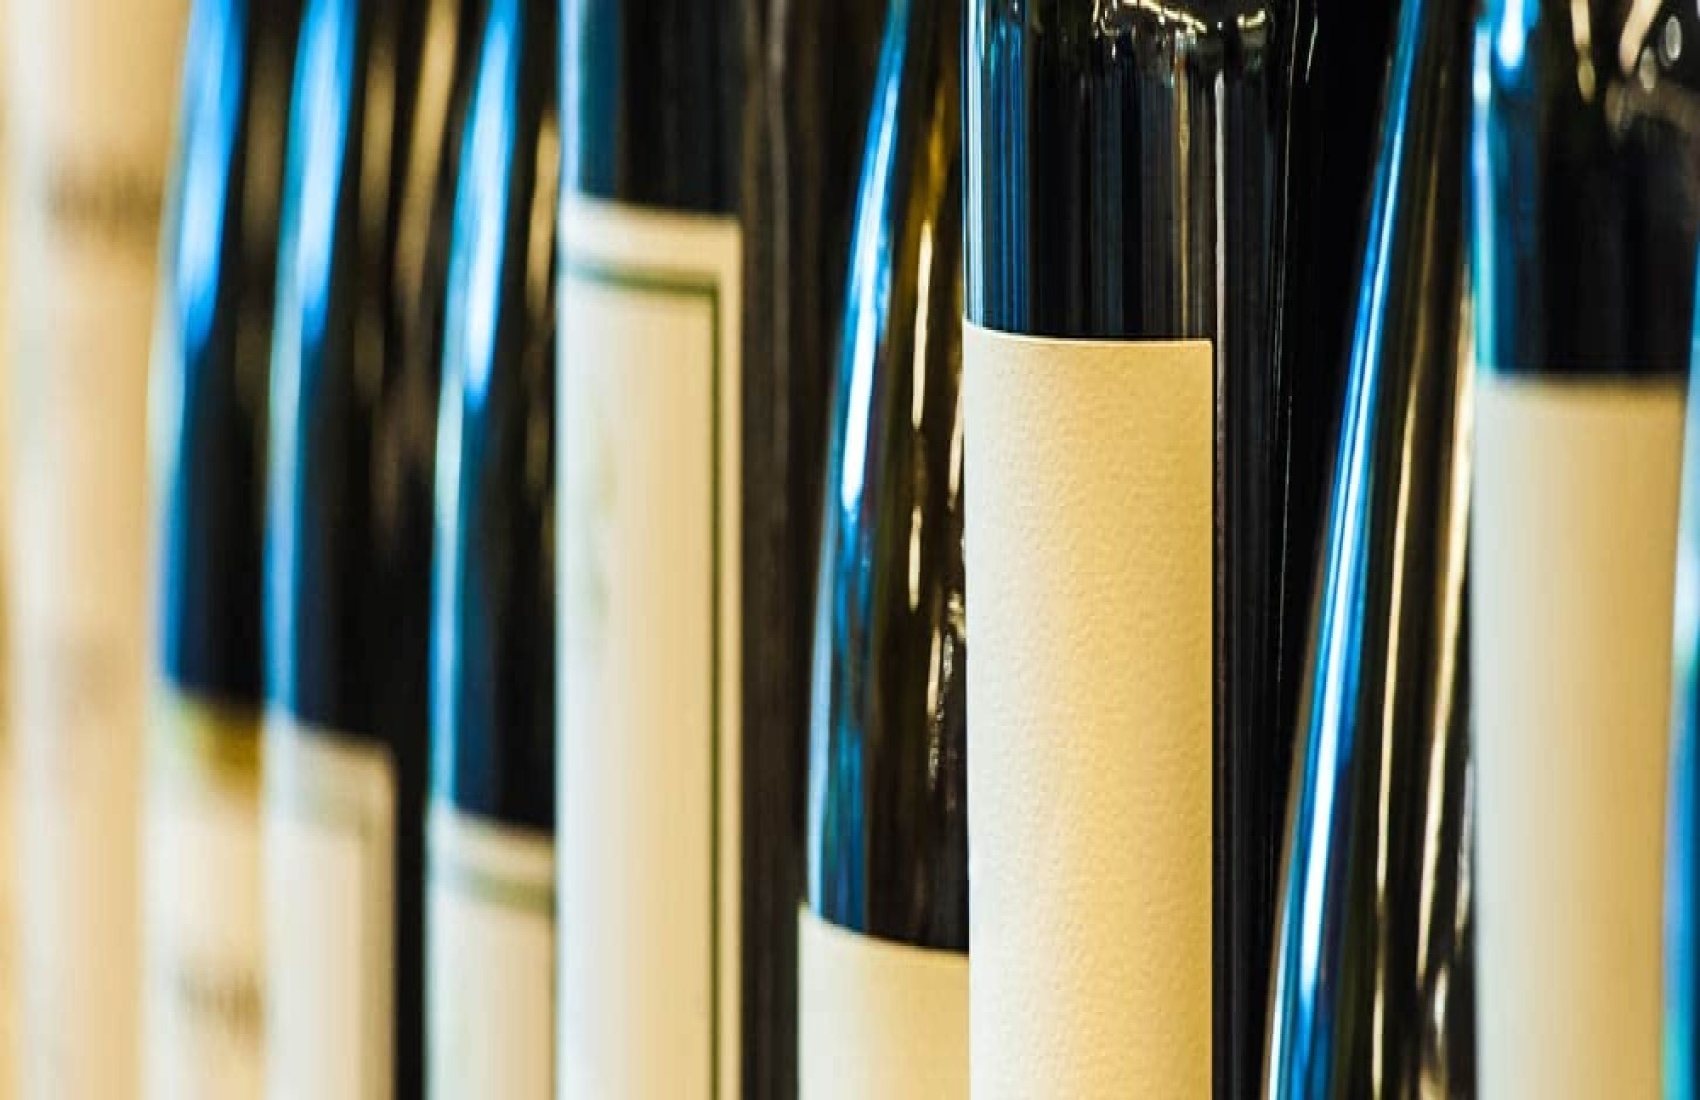wine: (800, 20, 1483, 1100)
